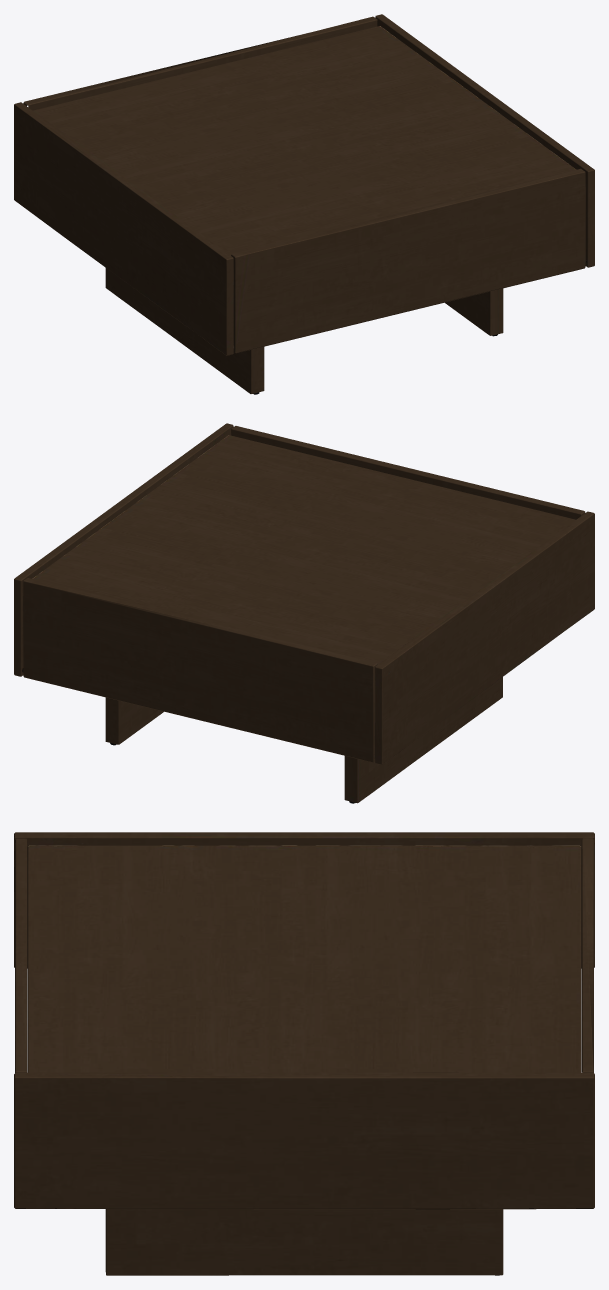
File: tranered_stolik_kawowy_10608998.glb
The picture shows the model from 3 angles, top to bottom: view 1: azimuth 30°, elevation 25°; view 2: azimuth 150°, elevation 25°; view 3: azimuth 270°, elevation 25°; orthographic projection. The views are drawn at different scales.
Parts seen in each view (by area): view 1: tranered_stolik_kawowy_10608998; view 2: tranered_stolik_kawowy_10608998; view 3: tranered_stolik_kawowy_10608998.
Part boxes in pixels (bbox=[...]): tranered_stolik_kawowy_10608998: bbox=[14, 14, 594, 394]; tranered_stolik_kawowy_10608998: bbox=[14, 423, 594, 803]; tranered_stolik_kawowy_10608998: bbox=[14, 832, 594, 1275].
Size of the model in its own units: 0.9002 by 0.4105 by 0.9001.
Materials: 1 (1 with a texture image).
